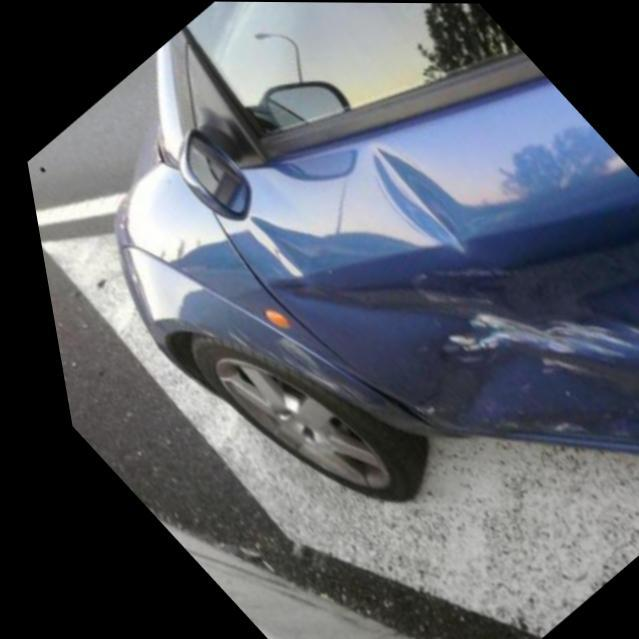dent: (357, 148, 450, 256)
rub: (436, 315, 639, 424), (181, 322, 362, 413)
